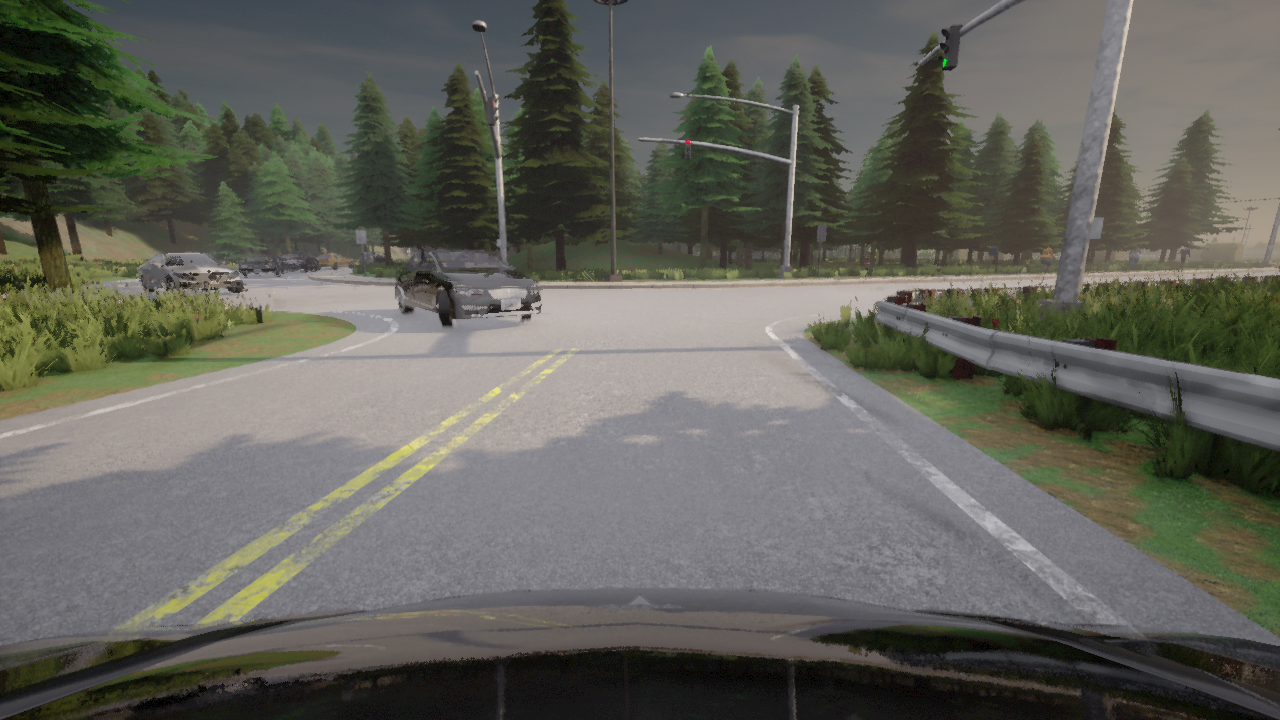cyclist: (0, 588, 1279, 719), (393, 249, 542, 328), (138, 252, 246, 293), (237, 255, 288, 276), (280, 251, 320, 271), (316, 252, 355, 268), (359, 252, 392, 264)
pedestrian: (1038, 243, 1054, 274), (985, 242, 999, 276), (1175, 244, 1190, 271), (1128, 243, 1141, 271), (1022, 256, 1031, 275), (863, 255, 870, 278)
